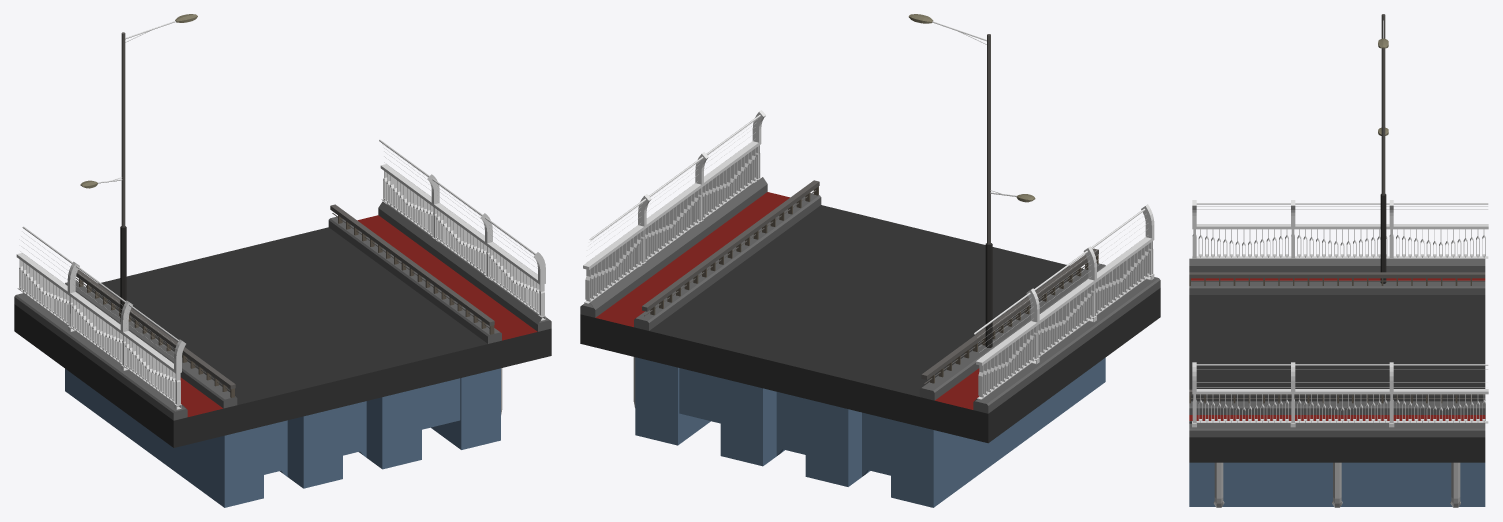
The model's file is bridge_block_2.fbx.
3 views of the same model, side by side, from view 1: azimuth 30°, elevation 25°; view 2: azimuth 150°, elevation 25°; view 3: azimuth 270°, elevation 25° (orthographic). The views are drawn at different scales.
Visible parts, largest first — view 1: BridgeBlock; view 2: BridgeBlock; view 3: BridgeBlock.
Boxes of the visible parts, box(x1,y1,x2,y2) form: BridgeBlock: box(14, 14, 551, 507); BridgeBlock: box(580, 14, 1160, 507); BridgeBlock: box(1189, 14, 1488, 507).
Bounding box in the file's own units: 1368 × 1380 × 1011.
